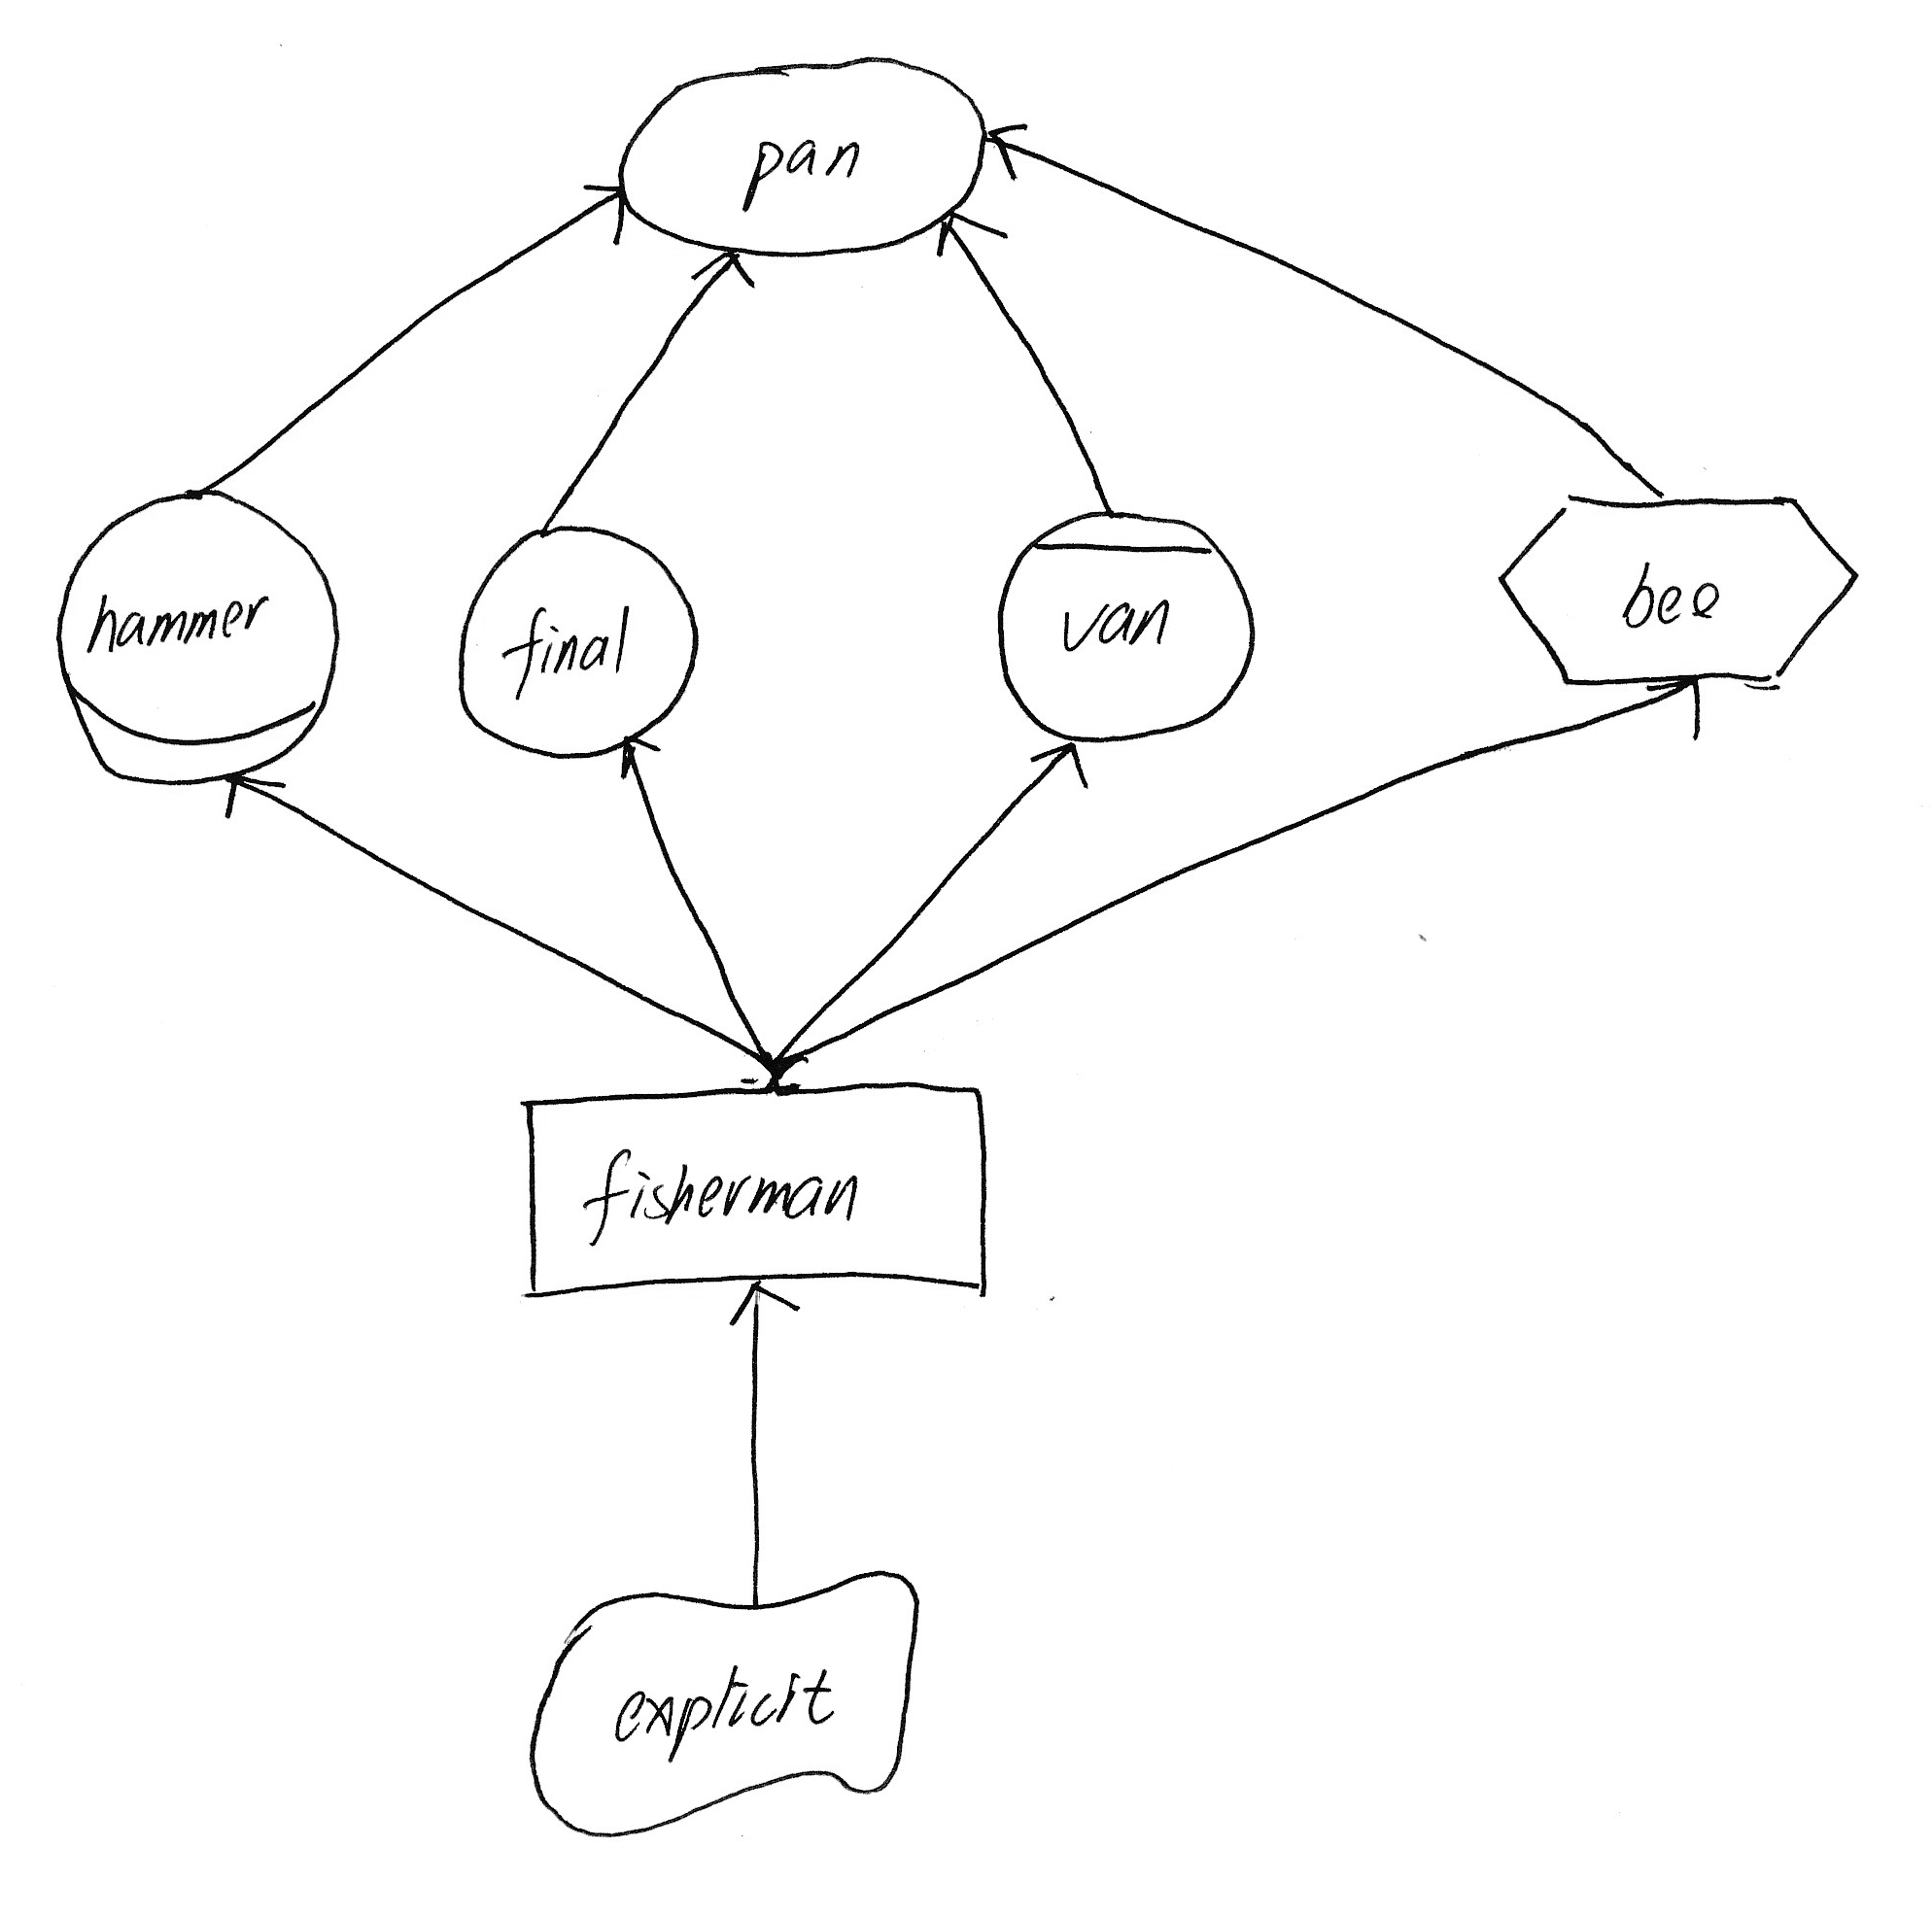actor: (444, 511, 724, 779)
agent: (980, 485, 1277, 765)
arrow: (1630, 665, 1734, 751), (915, 195, 1027, 270), (715, 1260, 813, 1341), (576, 160, 653, 258), (205, 751, 300, 830), (680, 232, 773, 311), (970, 98, 1045, 188), (1012, 723, 1101, 795), (601, 716, 676, 799)
goal: (601, 44, 999, 279)
quality: (516, 1548, 945, 1850)
resource: (494, 1064, 1026, 1331)
role: (37, 474, 362, 813)
task: (1481, 476, 1879, 713)
